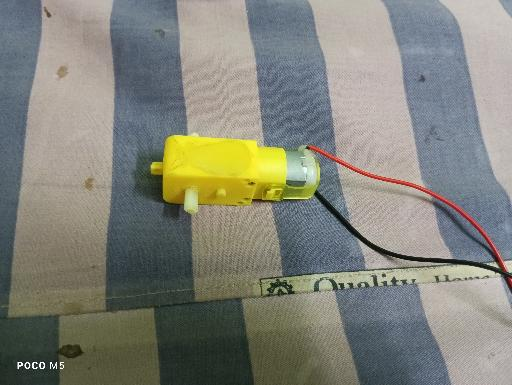Motor: (148, 131, 321, 218)
